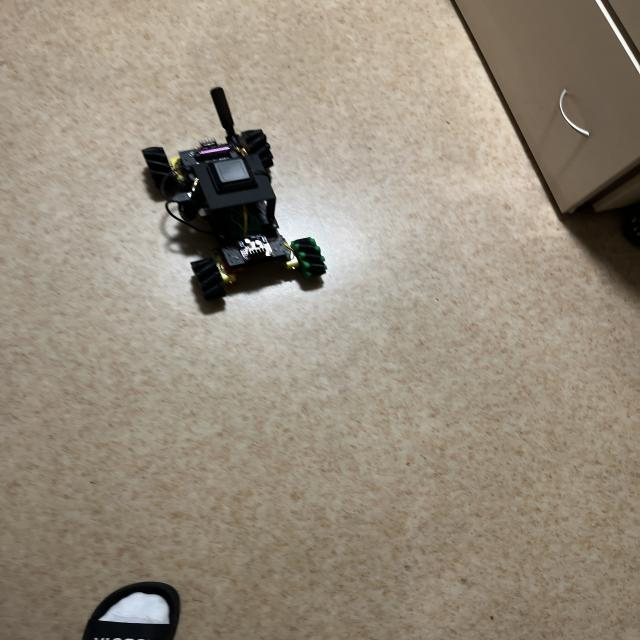robot: (142, 87, 327, 306)
